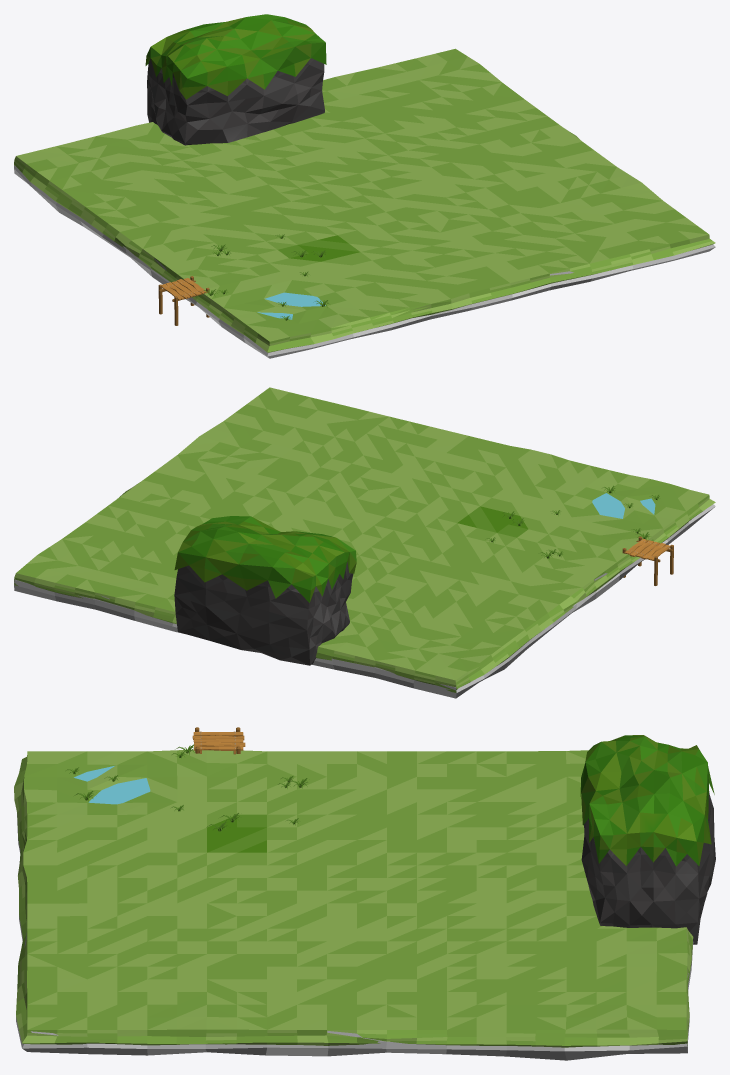
The model's file is beginnerIsland.glb.
3 renders of one model, top to bottom at view 1: azimuth 30°, elevation 25°; view 2: azimuth 150°, elevation 25°; view 3: azimuth 270°, elevation 25°, orthographic. The views are drawn at different scales.
Visible parts, largest first — view 1: Floor; view 2: Floor; view 3: Floor.
Part boxes in pixels (bbox=[...]): Floor: bbox=[14, 14, 715, 358]; Floor: bbox=[14, 387, 715, 698]; Floor: bbox=[14, 727, 715, 1060].
Size of the model in its own units: 47.34 by 10.76 by 46.4.
Materials: 1 (1 with a texture image).
